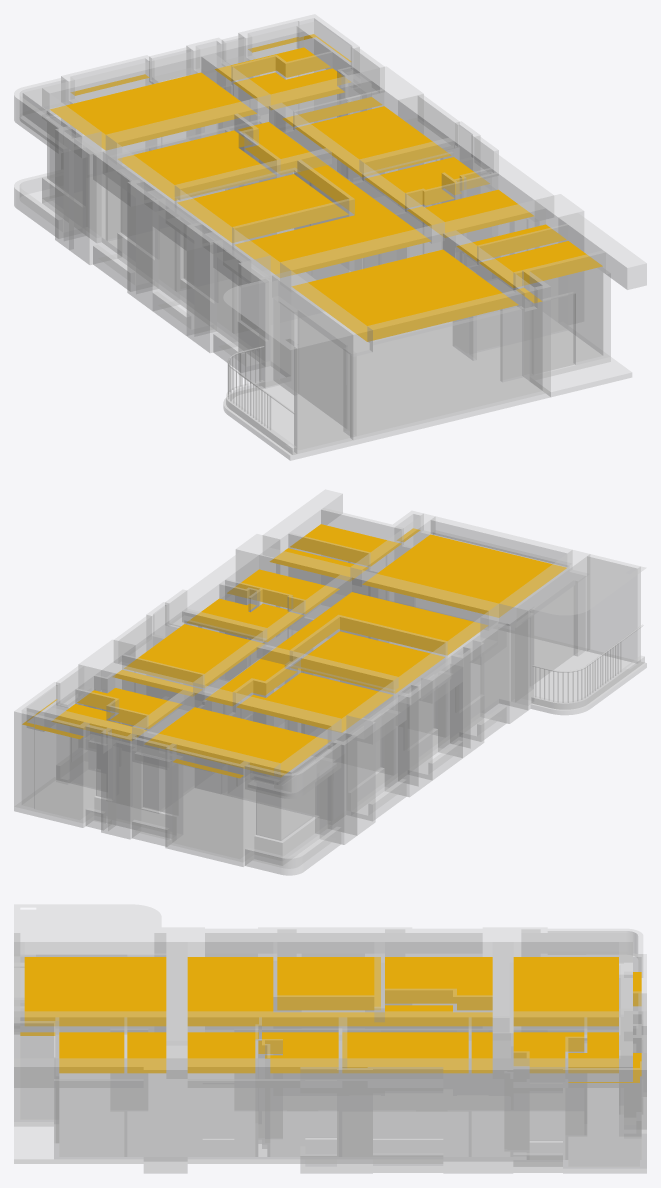
The picture shows the model from 3 angles, top to bottom: view 1: azimuth 30°, elevation 25°; view 2: azimuth 150°, elevation 25°; view 3: azimuth 270°, elevation 25°; orthographic projection. The views are drawn at different scales.
Bounding box in the file's own units: 11.16 × 3.25 × 18.02.
